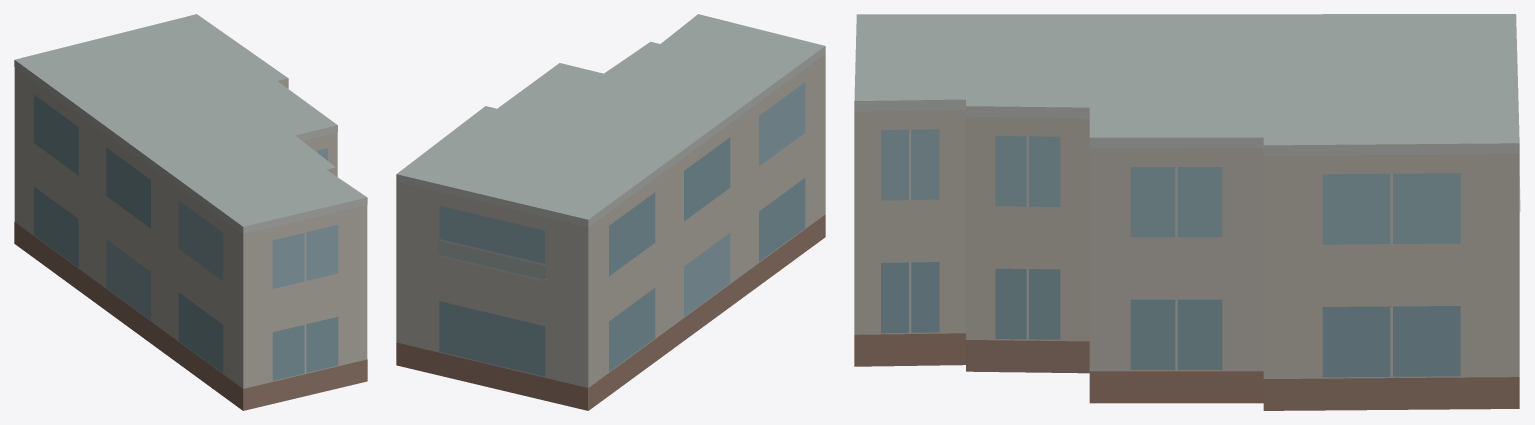
The model's file is survey-upis-32689802.glb.
3 views of the same model, side by side, from view 1: azimuth 30°, elevation 25°; view 2: azimuth 150°, elevation 25°; view 3: azimuth 270°, elevation 25° (orthographic). The views are drawn at different scales.
Visible parts, largest first — view 1: survey-upis-32689802.tmp; view 2: survey-upis-32689802.tmp; view 3: survey-upis-32689802.tmp.
Boxes of the visible parts, x1,y1,x2,y2 form: survey-upis-32689802.tmp: [14, 14, 367, 410]; survey-upis-32689802.tmp: [396, 14, 825, 410]; survey-upis-32689802.tmp: [854, 14, 1520, 410].
Size of the model in its own units: 6.48 by 6.1 by 13.88.
